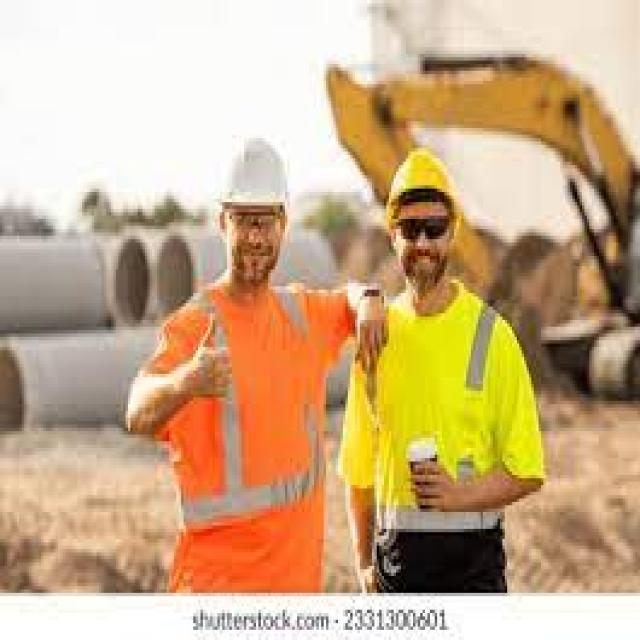glasses: (222, 209, 286, 240), (392, 210, 453, 242)
